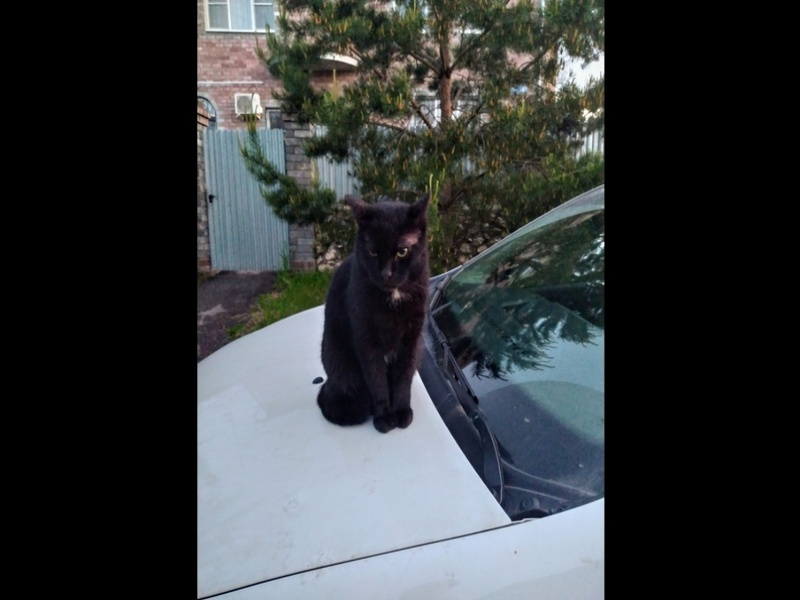cat: (319, 193, 432, 432)
